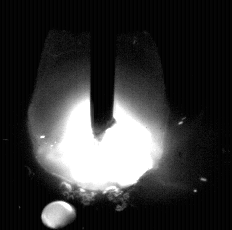arame: (91, 0, 115, 141)
poca: (31, 0, 169, 230)
